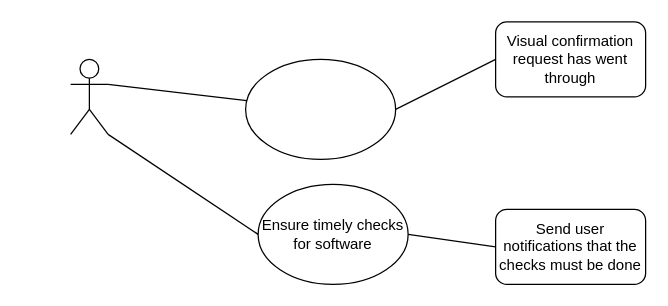
Some shapes in this 668 by 306 pixel diagram are drawn without their labels. The centre of each missing label's shape, as x and y in pixels:
Operations Manager: point (88, 96)
Schedule Maintenance - Allow user to enter date and time: point (320, 108)
